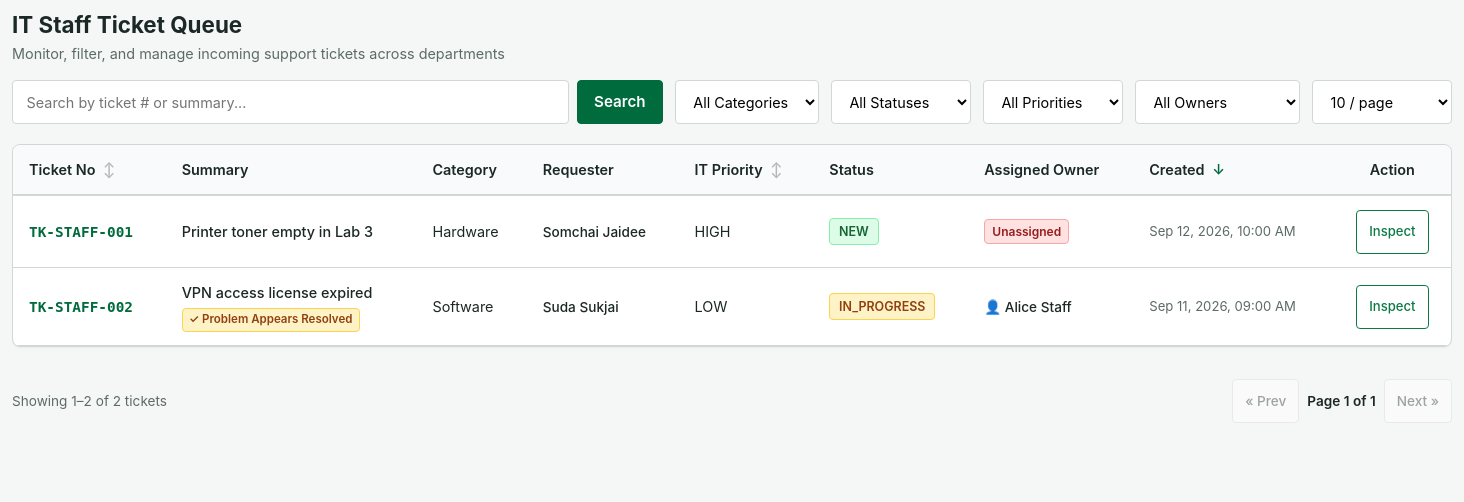
Test: StaffTicketQueue Component (UI-03, AC-12, AC-22) › UI-03 / AC-12: renders no-results state with 'Clear Filters' button when filters match nothing
The width and height of the screenshot is (1464, 502).
Type "NONEXISTENT_XYZ" into the field with placeholder "Search by ticket # or summary..." at [290, 102], box x1=12 y1=80 x2=569 y2=124
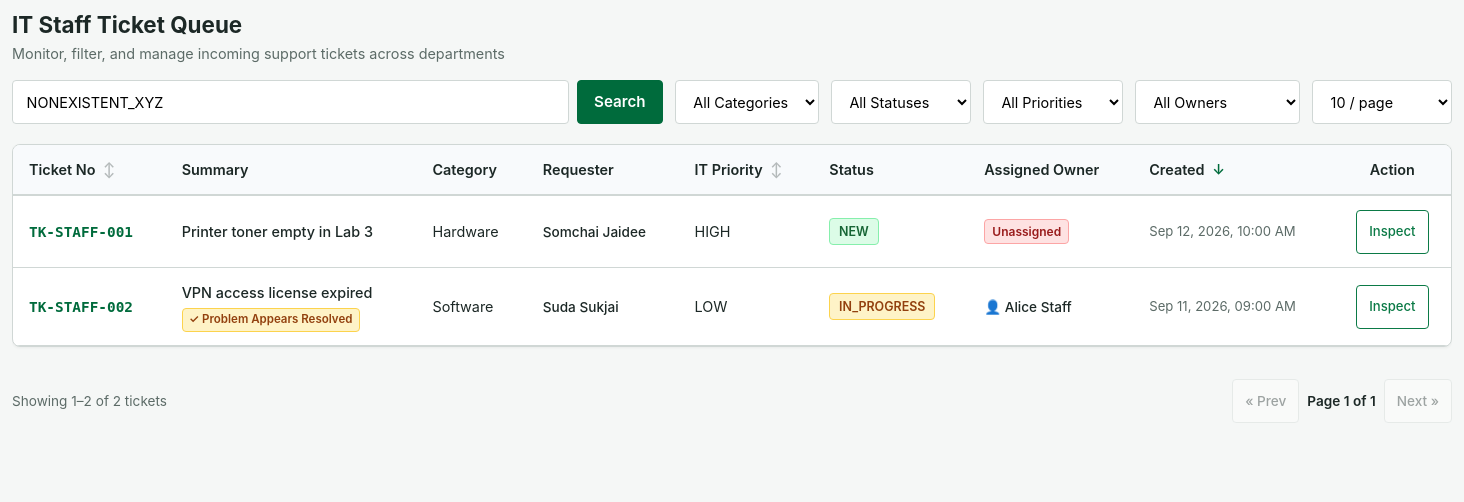
Click the button "Search" at [620, 102], box x1=577 y1=80 x2=663 y2=124
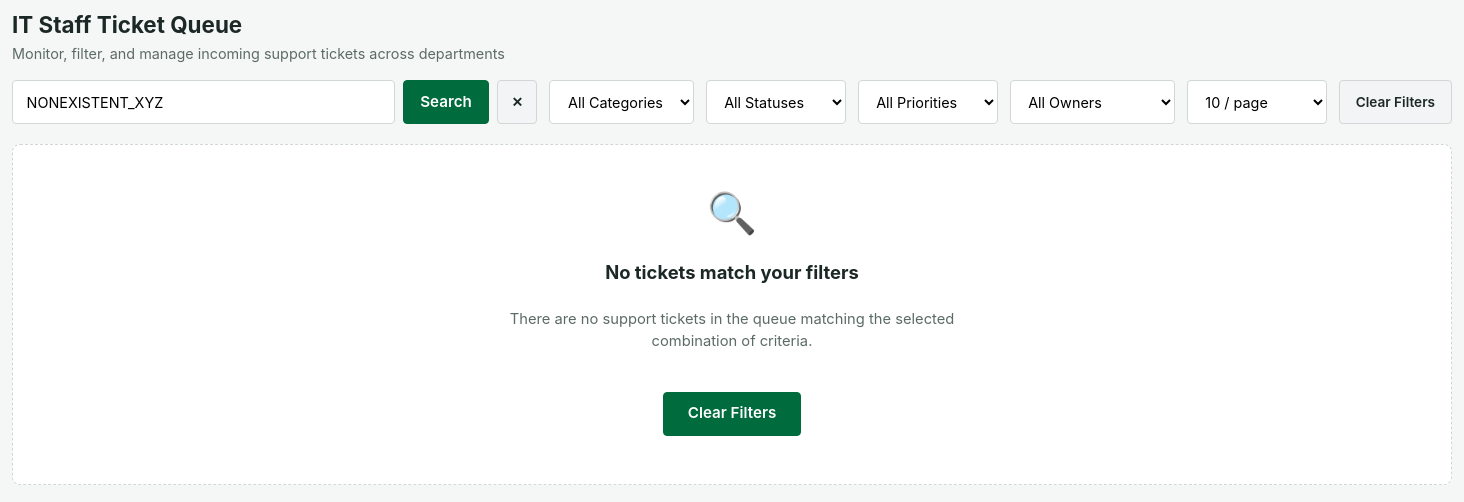
Expected: the element with test id "no-results-state" is shown
Expected: the heading "No tickets match your filters" is shown, x1=605 y1=262 x2=859 y2=284
Click Clear Filters
Click the button "Clear Filters" below "No tickets match your filters" at [732, 414], box x1=663 y1=392 x2=801 y2=436
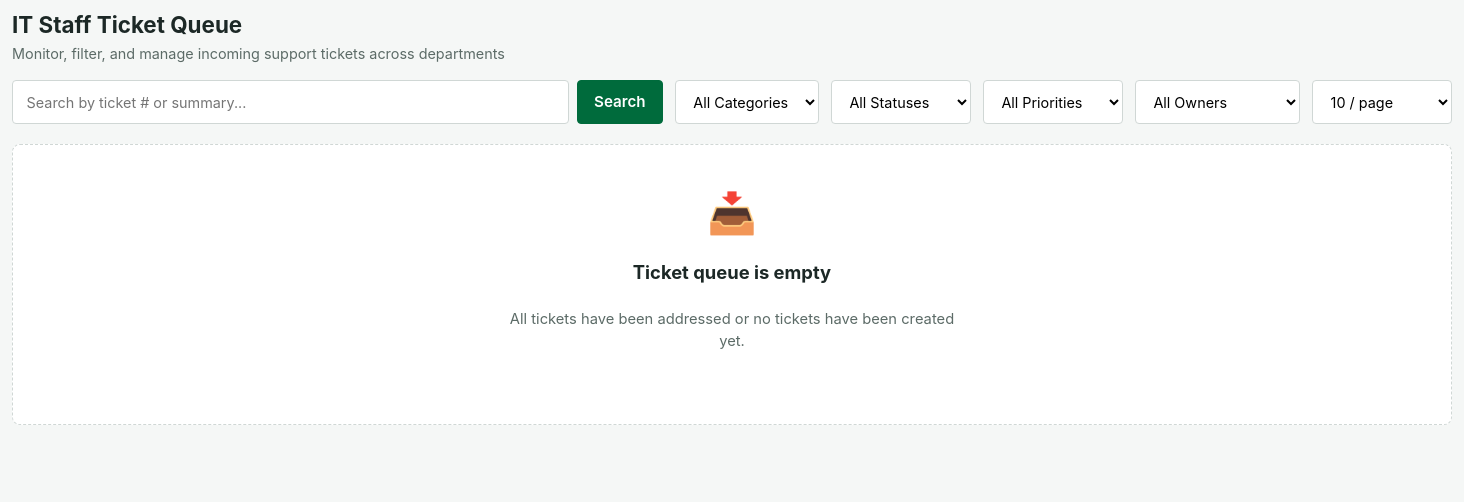
Expected: the field with placeholder "Search by ticket # or summary..." is empty, x1=12 y1=80 x2=569 y2=124
